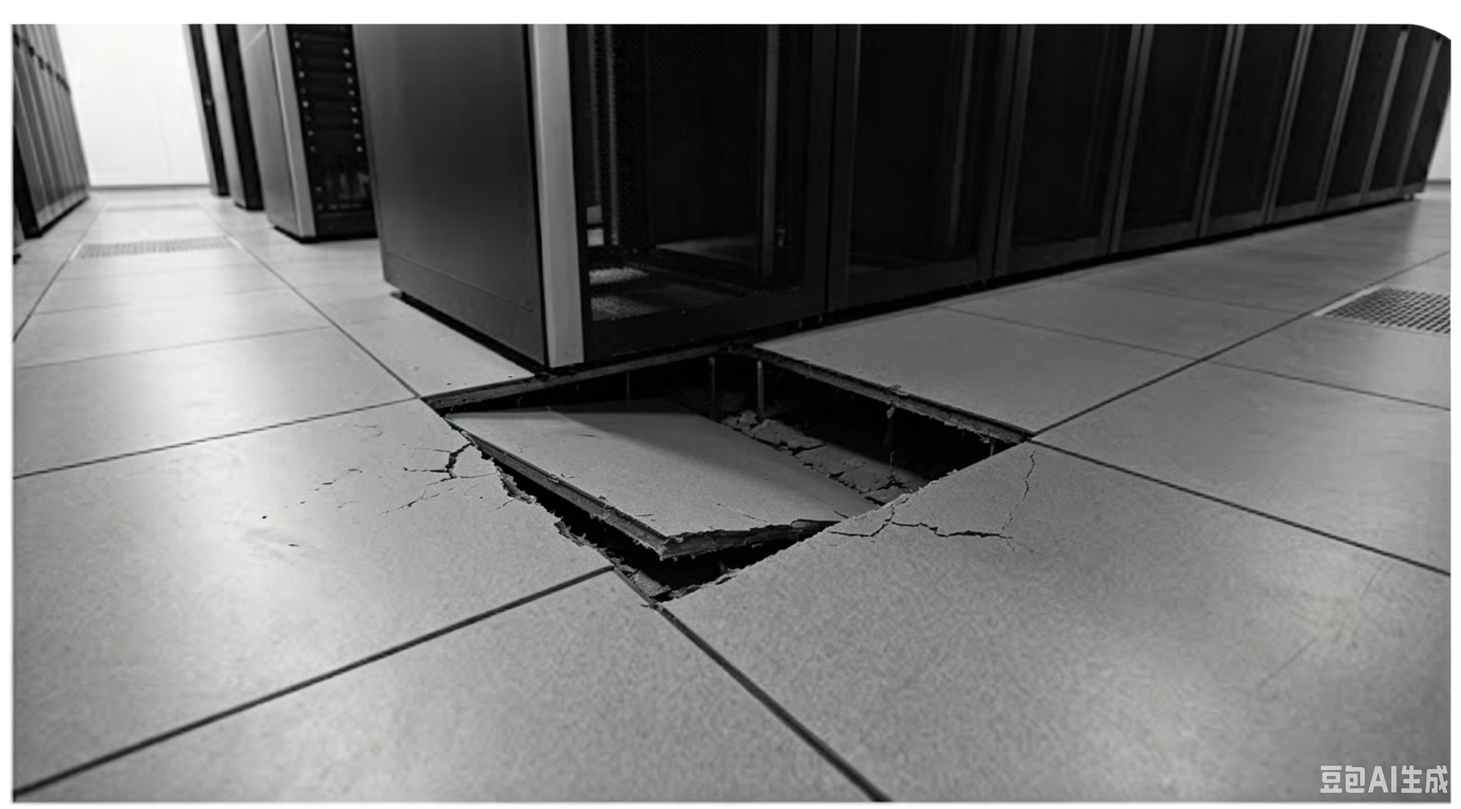floor_defect: (396, 317, 1056, 614)
